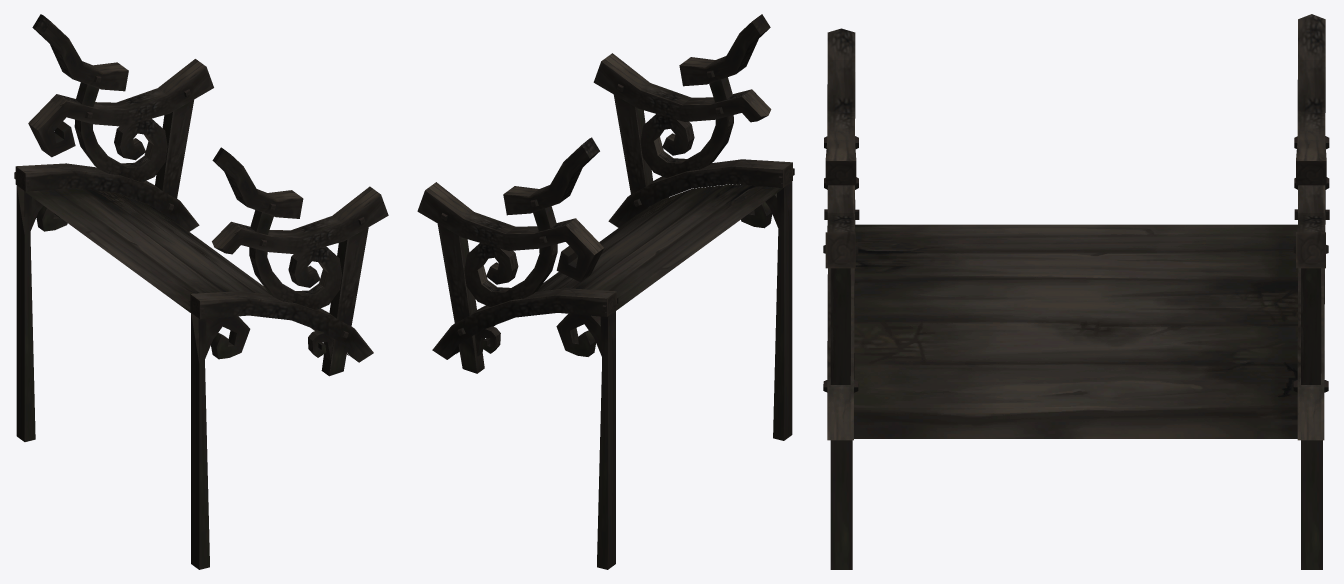
The model's file is wooden_bridge_burnt_01_c.fbx.
3 views of the same model, side by side, from view 1: azimuth 30°, elevation 25°; view 2: azimuth 150°, elevation 25°; view 3: azimuth 270°, elevation 25° (orthographic). The views are drawn at different scales.
Parts seen in each view (by area): view 1: obj1.113; view 2: obj1.113; view 3: obj1.113.
Part boxes in pixels (x1=…): obj1.113: x1=14, y1=14, x2=388, y2=569; obj1.113: x1=417, y1=14, x2=794, y2=569; obj1.113: x1=823, y1=14, x2=1329, y2=569.
Bounding box in the file's own units: 4.73 × 10.07 × 8.19.
